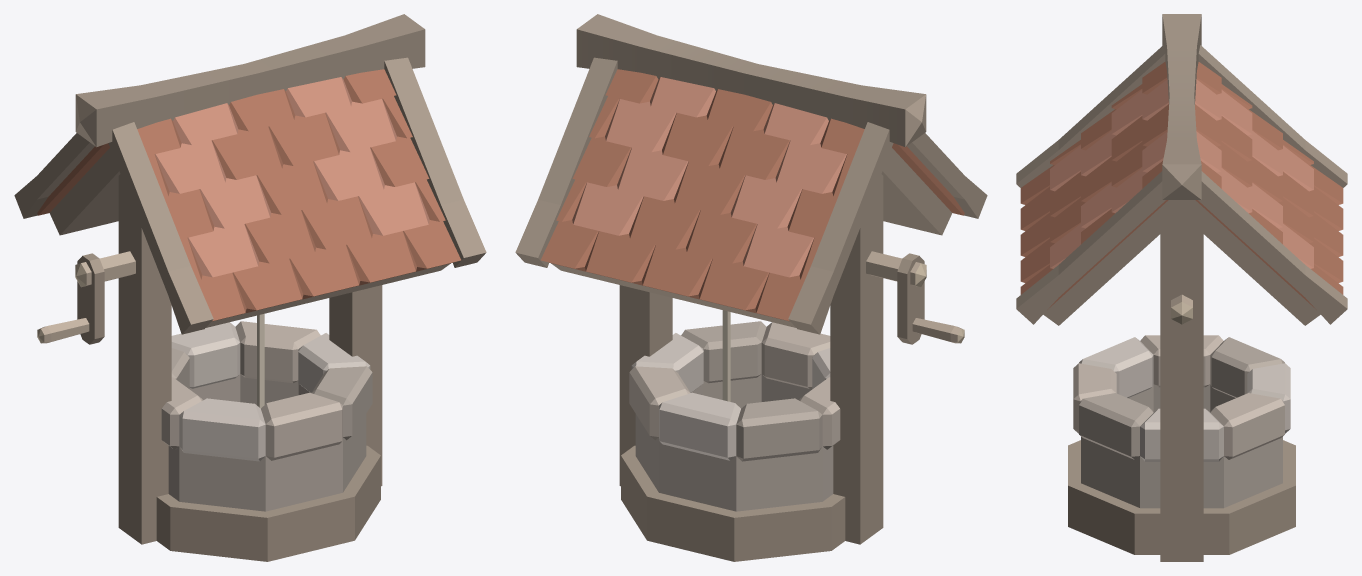
File: Prop_Well_1.glb
3 views of the same model, side by side, from view 1: azimuth 30°, elevation 25°; view 2: azimuth 150°, elevation 25°; view 3: azimuth 270°, elevation 25° (orthographic). The views are drawn at different scales.
Visible parts, largest first — view 1: Prop_Well_1; view 2: Prop_Well_1; view 3: Prop_Well_1.
Part boxes in pixels (bbox=[...]): Prop_Well_1: bbox=[14, 14, 486, 561]; Prop_Well_1: bbox=[515, 14, 987, 561]; Prop_Well_1: bbox=[1016, 14, 1347, 561].
Bounding box in the file's own units: 0.6806 × 0.7569 × 0.5446.
